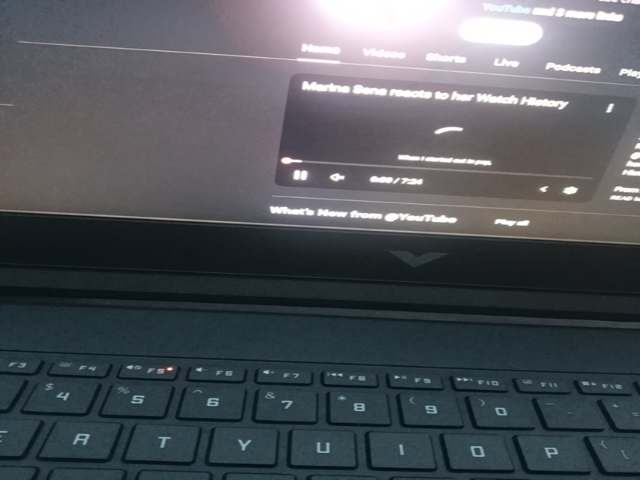pothole: (104, 403, 313, 480), (536, 403, 640, 480)
